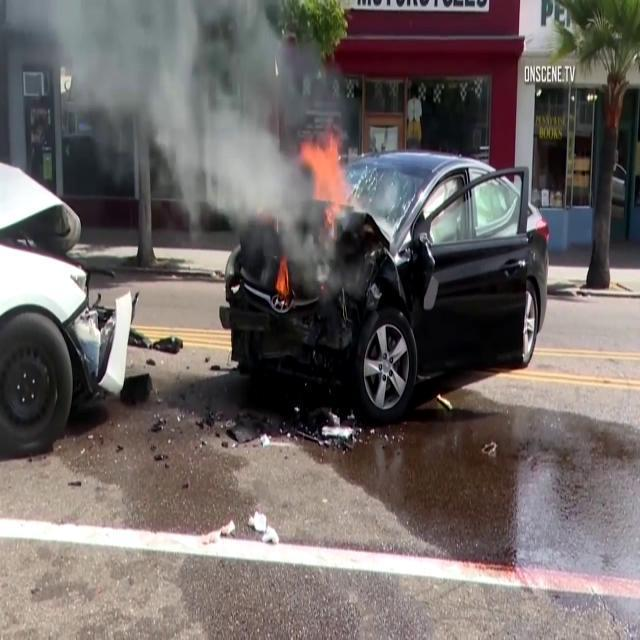Fire: (300, 127, 350, 220)
Smoke: (0, 0, 358, 313)
